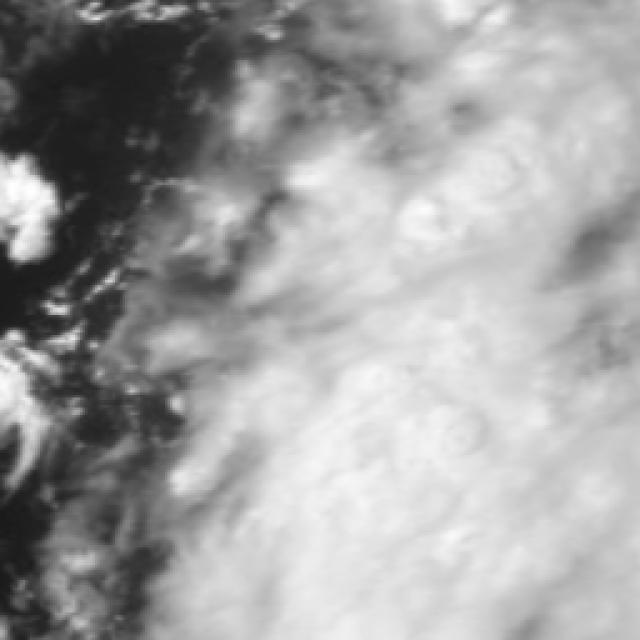CB: (361, 241, 518, 640), (359, 400, 631, 570), (285, 495, 493, 640)
